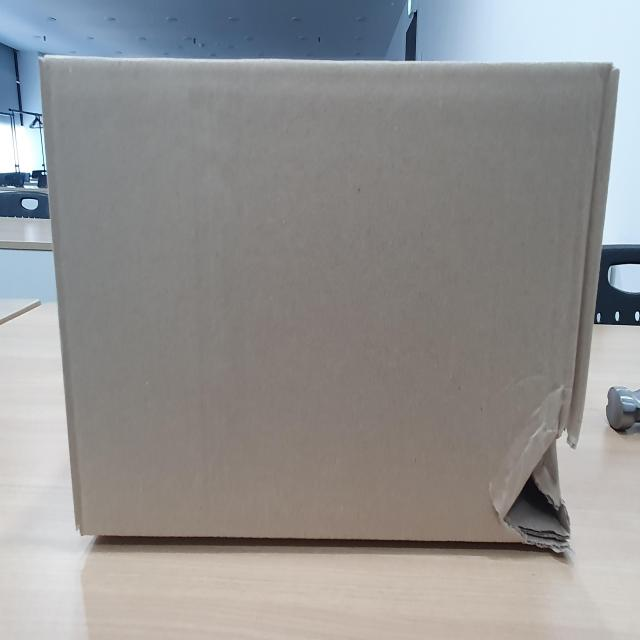damaged: (500, 418, 583, 555)
